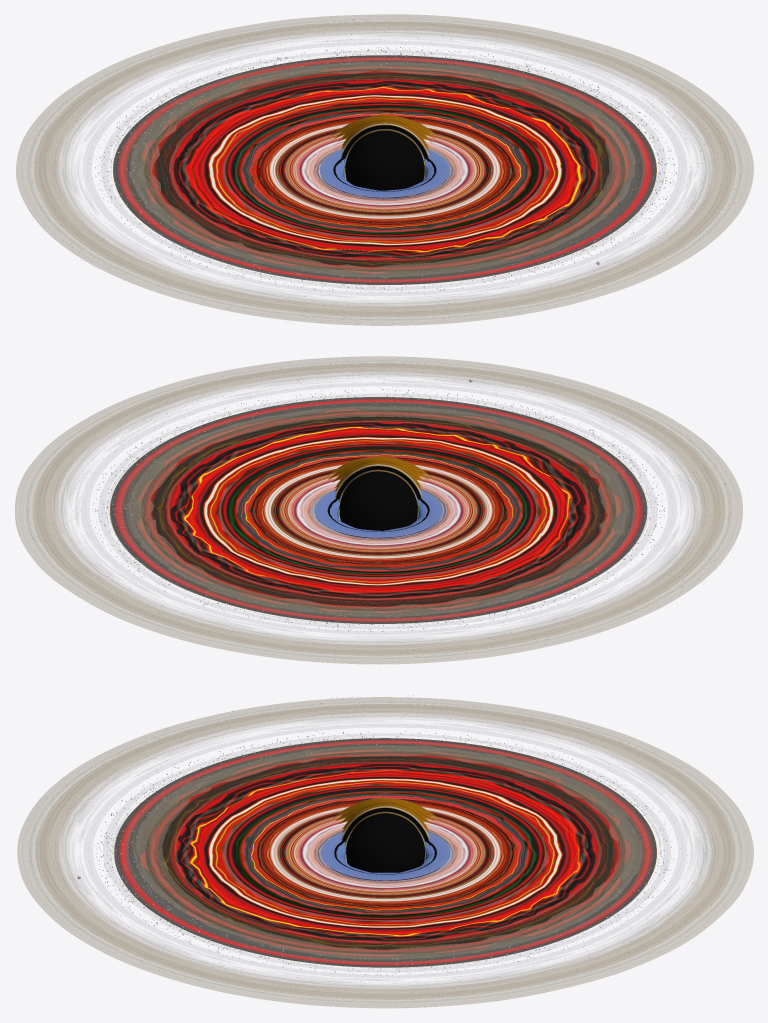
File: black hole.glb
The picture shows the model from 3 angles, top to bottom: view 1: azimuth 30°, elevation 25°; view 2: azimuth 150°, elevation 25°; view 3: azimuth 270°, elevation 25°; orthographic projection.
Parts seen in each view (by area): view 1: black hole, black hole_ring; view 2: black hole, black hole_ring; view 3: black hole, black hole_ring.
Part boxes in pixels (bbox=[...]): black hole: bbox=[113, 55, 656, 284]; black hole_ring: bbox=[14, 14, 753, 327]; black hole: bbox=[110, 397, 647, 623]; black hole_ring: bbox=[15, 356, 753, 664]; black hole: bbox=[114, 738, 656, 967]; black hole_ring: bbox=[14, 693, 753, 1008].
Bounding box in the file's own units: 332540 × 46740 × 329846.
9 materials, 5 textured.
